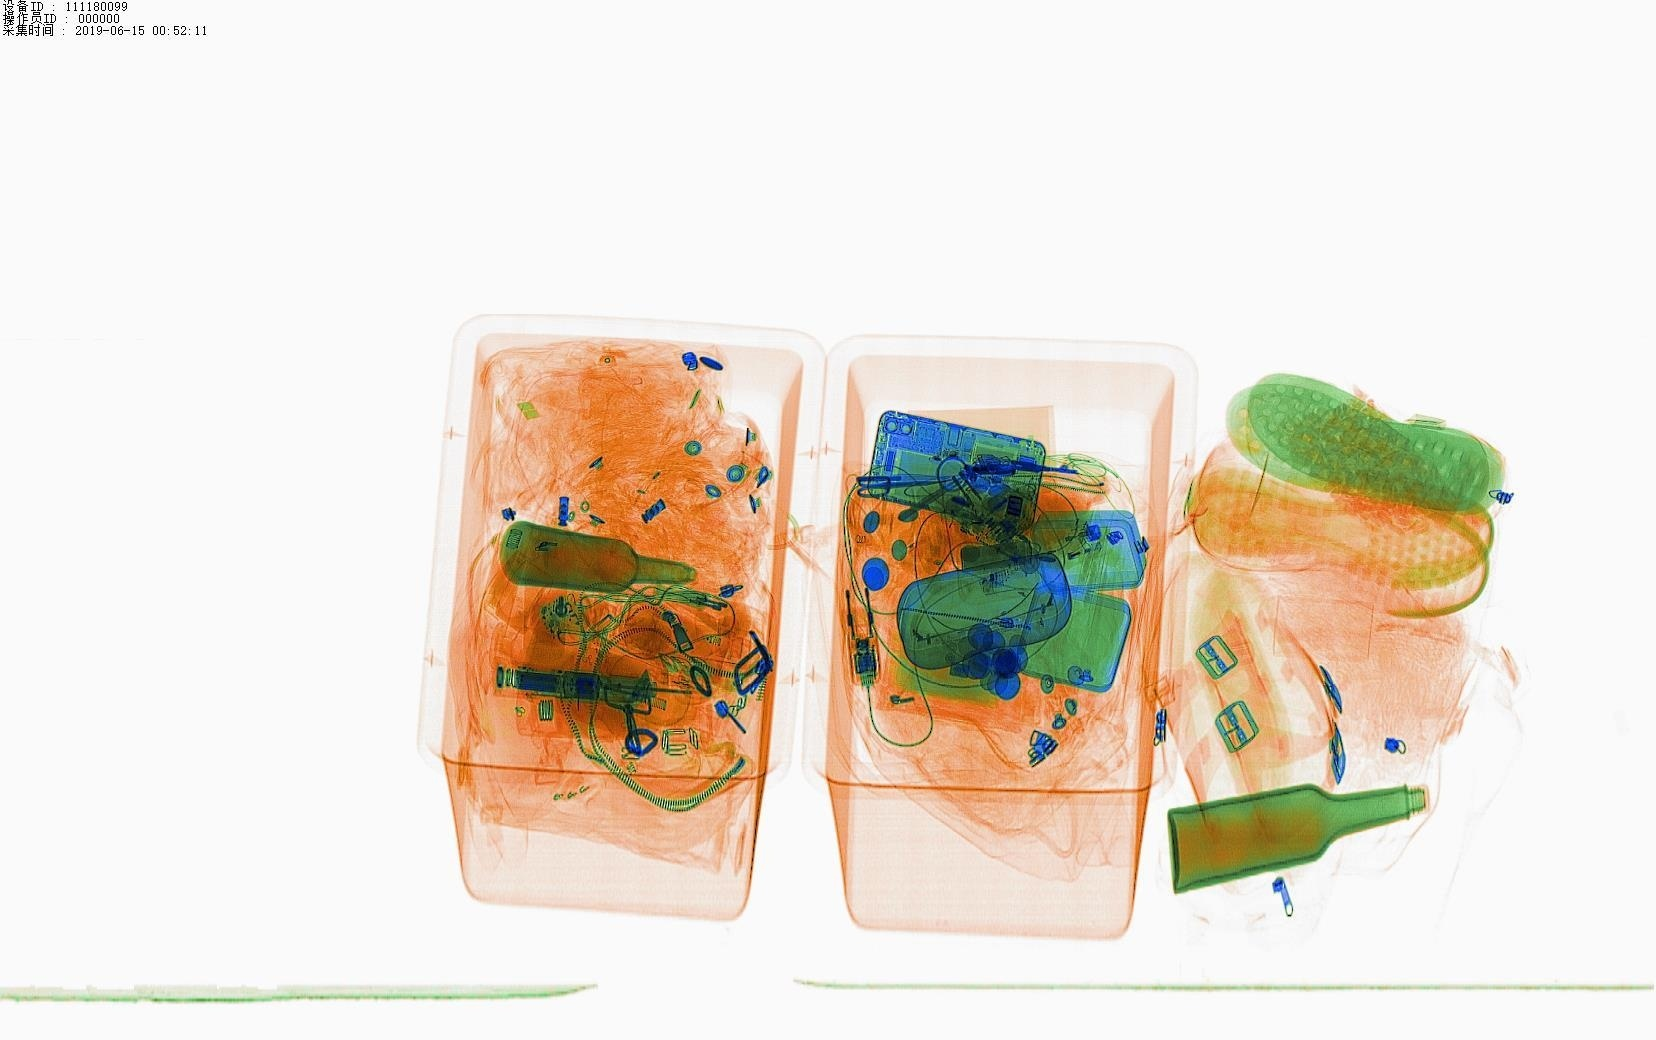NonmetallicFire: (1005, 524, 1129, 572)
